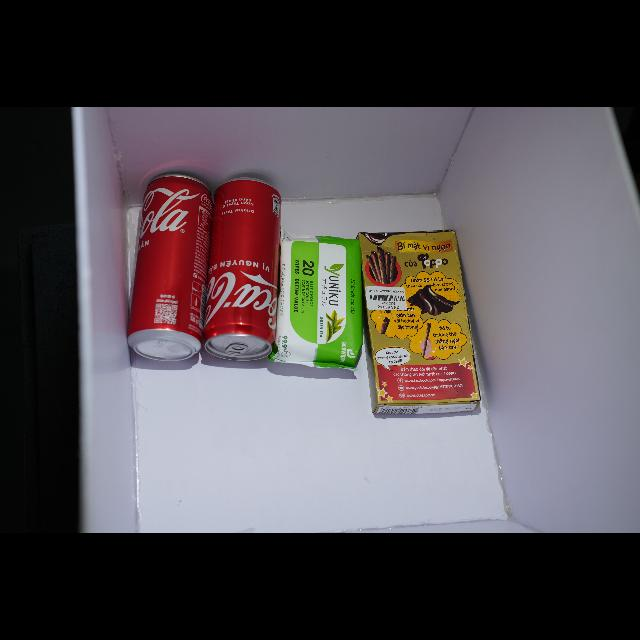banh_toppo_socola: (357, 230, 481, 414)
coca_cola: (128, 174, 212, 361), (203, 178, 281, 361)
khan_giay: (271, 228, 362, 370)
